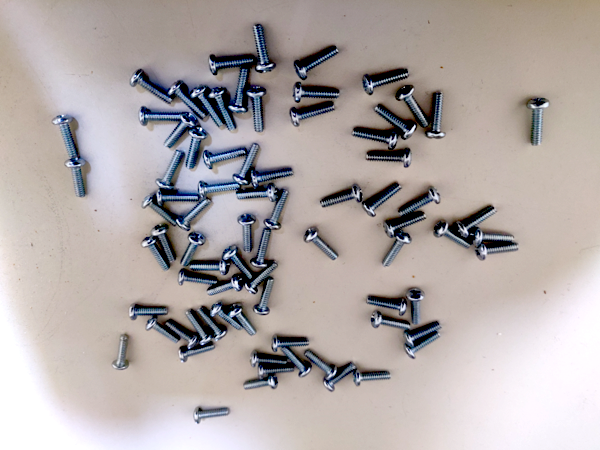shortscrew: (293, 46, 340, 81), (374, 103, 418, 140), (130, 68, 174, 105), (396, 86, 430, 130), (168, 80, 207, 118), (455, 205, 498, 239), (363, 183, 403, 218), (190, 85, 223, 127), (363, 68, 409, 97), (398, 187, 441, 218), (208, 87, 237, 132), (163, 112, 198, 149), (141, 192, 178, 227), (52, 114, 80, 159), (253, 24, 277, 74), (304, 227, 339, 261), (155, 150, 184, 191), (384, 211, 428, 238), (290, 102, 336, 127), (434, 220, 472, 250), (383, 230, 412, 269), (527, 98, 550, 147), (245, 261, 279, 294), (233, 143, 259, 186), (222, 245, 253, 281), (141, 234, 170, 272), (320, 184, 364, 209), (405, 321, 443, 349), (404, 332, 442, 360), (426, 92, 448, 140), (208, 54, 256, 76), (304, 350, 338, 381), (352, 128, 399, 150), (245, 87, 267, 134), (292, 82, 341, 103), (281, 346, 312, 379), (228, 302, 257, 337), (185, 310, 213, 346), (145, 316, 181, 344), (264, 190, 289, 230), (211, 302, 244, 332), (184, 127, 207, 170), (228, 67, 249, 114), (197, 306, 225, 341), (180, 231, 207, 267), (204, 148, 248, 170), (323, 363, 356, 392), (166, 320, 199, 349), (365, 148, 412, 168), (151, 225, 175, 263), (366, 295, 408, 316), (65, 158, 87, 198), (251, 168, 295, 188), (253, 277, 276, 315), (475, 242, 520, 261), (471, 229, 515, 248), (139, 106, 180, 126), (405, 287, 426, 326), (251, 230, 272, 269), (198, 180, 241, 199), (236, 184, 279, 203), (371, 311, 411, 331), (237, 214, 257, 253), (206, 275, 244, 295), (193, 406, 231, 425), (111, 334, 131, 370), (271, 335, 311, 353), (251, 350, 288, 369), (130, 304, 168, 322), (178, 270, 218, 287), (157, 190, 199, 206), (189, 259, 231, 275), (353, 370, 392, 387), (177, 346, 216, 363), (243, 375, 278, 391), (257, 365, 295, 379)
